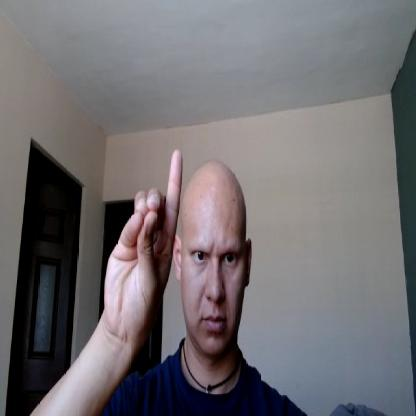D: (103, 150, 183, 340)
